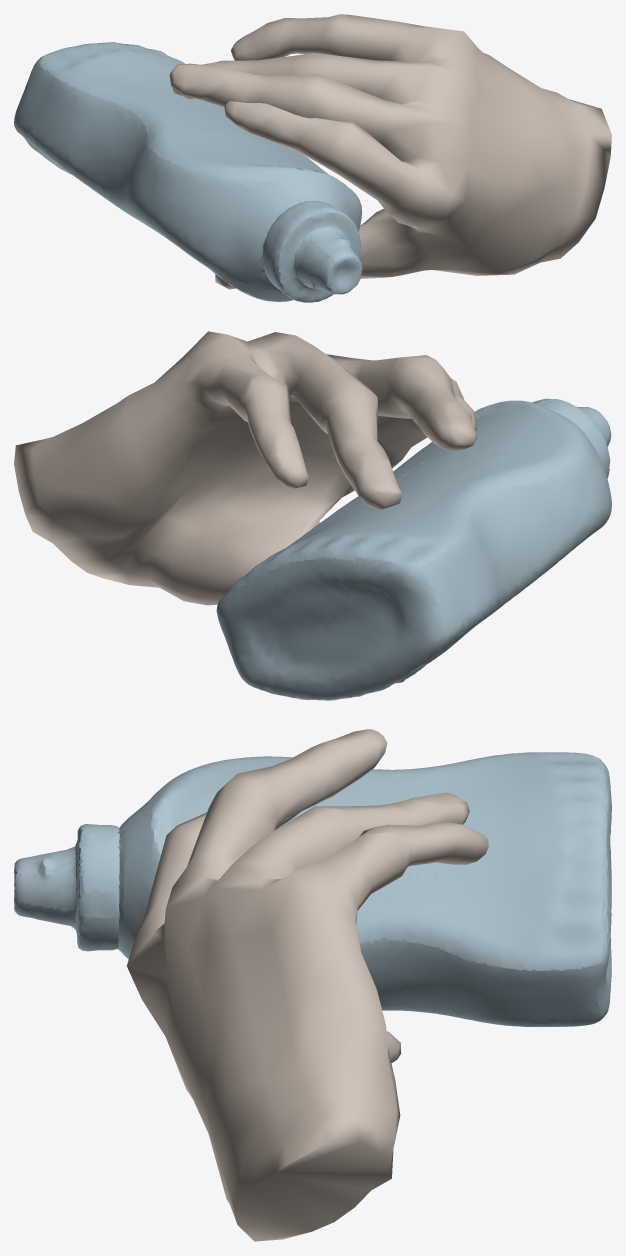
Rendered from ours_mustard_bottle.glb.
3 renders of one model, top to bottom at view 1: azimuth 30°, elevation 25°; view 2: azimuth 150°, elevation 25°; view 3: azimuth 270°, elevation 25°, orthographic. The views are drawn at different scales.
Size of the model in its own units: 0.2271 by 0.111 by 0.1914.
